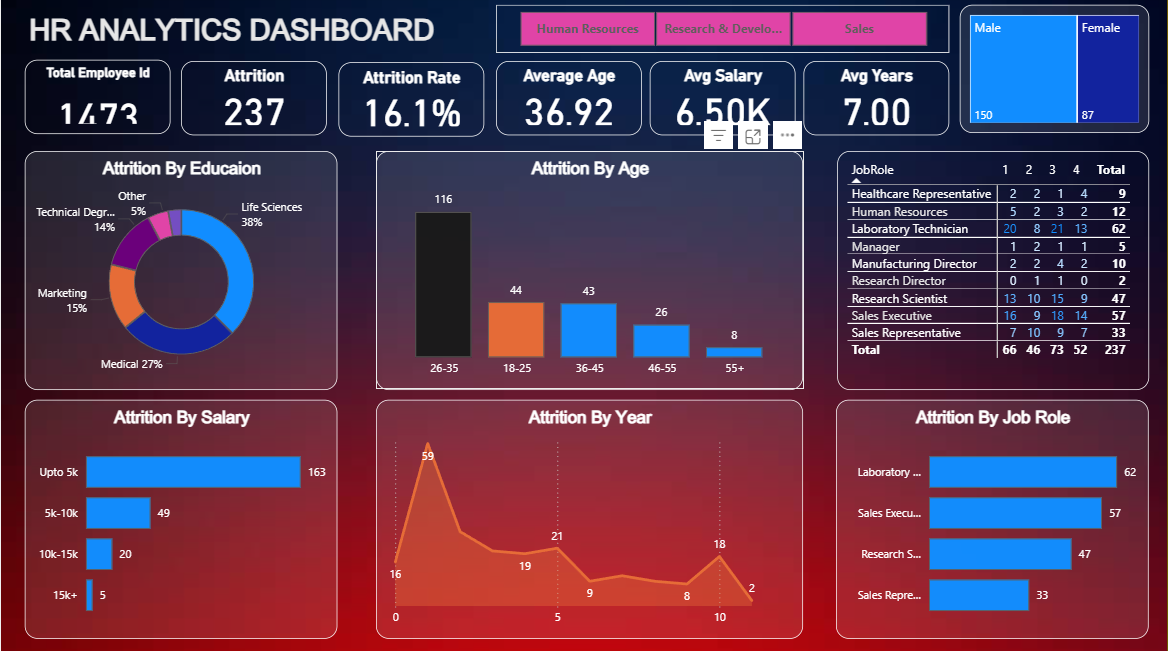

Layout of this report page (visuals, bound fields, positions):
{"tool":"powerbi","page":{"name":"Page 1","canvas":[1280,720],"ordinal":0},"visuals":[{"type":"card","title":"Total Employee Id ","fields":{"Values":["CountNonNull(HR_Analytics (1) - Copy.EmpID)"]},"box":[25.7,69.8,159.6,81.2],"z":0},{"type":"card","title":"Attrition","fields":{"Values":["Sum(HR_Analytics (1) - Copy.AttritionCount)"]},"box":[198.1,71.3,159.6,81.2],"z":1000},{"type":"card","title":"Attrition Rate","fields":{"Values":["HR_Analytics (1) - Copy.AttritionRate"]},"box":[370.6,72.7,159.6,81.2],"z":2000},{"type":"card","title":"Average Age","fields":{"Values":["Avg(HR_Analytics (1) - Copy.Age)"]},"box":[543.1,71.3,159.6,81.2],"z":3000},{"type":"card","title":"Avg Salary","fields":{"Values":["Avg(HR_Analytics (1) - Copy.MonthlyIncome)"]},"box":[712.7,71.3,159.6,81.2],"z":4000},{"type":"card","title":"Avg Years","fields":{"Values":["Avg(HR_Analytics (1) - Copy.YearsAtCompany)"]},"box":[880.9,71.3,159.6,81.2],"z":5000},{"type":"donutChart","title":"Attrition By Educaion","fields":{"Category":["HR_Analytics (1) - Copy.EducationField"],"Y":["Sum(HR_Analytics (1) - Copy.AttritionCount)"]},"box":[25.7,169.6,343.5,262.3],"z":6000},{"type":"columnChart","title":"Attrition By Age","fields":{"Category":["HR_Analytics (1) - Copy.AgeGroup"],"Y":["Sum(HR_Analytics (1) - Copy.AttritionCount)"]},"box":[411.9,169.6,469,262.3],"z":7000},{"type":"pivotTable","fields":{"Rows":["HR_Analytics (1) - Copy.JobRole"],"Columns":["HR_Analytics (1) - Copy.JobSatisfaction"],"Values":["Sum(HR_Analytics (1) - Copy.AttritionCount)"]},"box":[918,169.6,342.1,262.3],"z":8000},{"type":"barChart","title":"Attrition By Salary","fields":{"Category":["HR_Analytics (1) - Copy.SalarySlab"],"Y":["Sum(HR_Analytics (1) - Copy.AttritionCount)"]},"box":[25.7,443.3,343.5,262.3],"z":9000},{"type":"barChart","title":"Attrition By Job Role","fields":{"Category":["HR_Analytics (1) - Copy.JobRole"],"Y":["Sum(HR_Analytics (1) - Copy.AttritionCount)"]},"box":[916.5,443.3,343.5,262.3],"z":10000},{"type":"areaChart","title":"Attrition By Year","fields":{"Category":["HR_Analytics (1) - Copy.YearsAtCompany"],"Y":["Sum(HR_Analytics (1) - Copy.AttritionCount)"]},"box":[411.9,443.3,469,262.3],"z":11000},{"type":"treemap","title":"Attrition By Age","fields":{"Group":["HR_Analytics (1) - Copy.Gender"],"Values":["Sum(HR_Analytics (1) - Copy.AttritionCount)"]},"box":[1051.9,10,208.1,141.1],"z":12000},{"type":"slicer","fields":{"Values":["HR_Analytics (1) - Copy.Department"]},"box":[543.1,10,497.5,52.7],"z":13000},{"type":"textbox","box":[25.7,10,551.6,84.1],"z":14000}]}

Visuals, with their boxes in screenshot pixels (x1, y1, x2, y2), scaled from the page's 1280x720 canvas onto the 1168x651 screenshot:
"Total Employee Id " card: 23:63:169:137
"Attrition" card: 181:64:326:138
"Attrition Rate" card: 338:66:484:139
"Average Age" card: 496:64:641:138
"Avg Salary" card: 650:64:796:138
"Avg Years" card: 804:64:949:138
"Attrition By Educaion" donutChart: 23:153:337:391
"Attrition By Age" columnChart: 376:153:804:391
pivotTable - HR_Analytics (1) - Copy.JobRole x HR_Analytics (1) - Copy.JobSatisfaction: 838:153:1150:391
"Attrition By Salary" barChart: 23:401:337:638
"Attrition By Job Role" barChart: 836:401:1150:638
"Attrition By Year" areaChart: 376:401:804:638
"Attrition By Age" treemap: 960:9:1150:137
slicer - HR_Analytics (1) - Copy.Department: 496:9:950:57
textbox: 23:9:527:85
